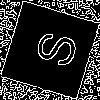S: (25, 25, 80, 71)
